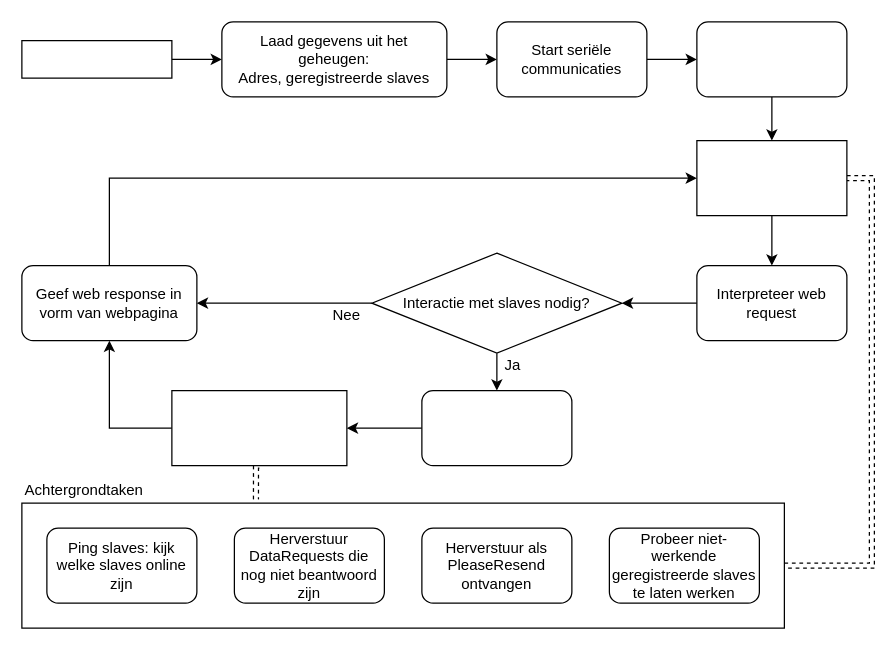
Some shapes in this 896 by 650 pixel diagram are drawn without their labels. Each missing label, with the box of its shape:
Opstart master: (21, 39, 172, 78)
Stuur instructies naar slave(s): (421, 389, 572, 466)
Verbind met een WiFi netwerk en start web server: (696, 21, 847, 97)
Wacht op antwoord van slave(s) en vericht achtergrondtaken: (171, 389, 347, 466)
Wacht op web request en vericht achtergrondtaken: (696, 139, 847, 216)
